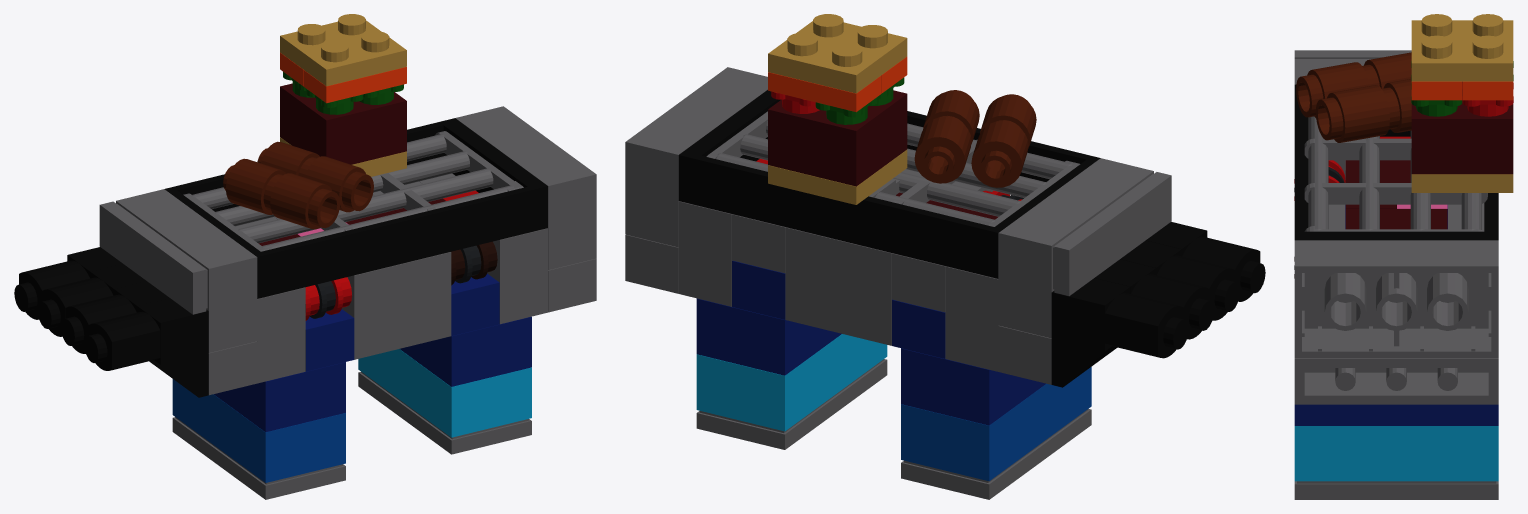
The model's file is Barbeque.FBX.
3 renders of one model, left to right at view 1: azimuth 30°, elevation 25°; view 2: azimuth 150°, elevation 25°; view 3: azimuth 270°, elevation 25°, orthographic. The views are drawn at different scales.
Parts seen in each view (by area): view 1: Barbeque; view 2: Barbeque; view 3: Barbeque.
Boxes of the visible parts, x1=… form: Barbeque: x1=14, y1=14, x2=596, y2=499; Barbeque: x1=625, y1=14, x2=1265, y2=499; Barbeque: x1=1294, y1=14, x2=1513, y2=499.
Bounding box in the file's own units: 3.85 × 2.78 × 1.35.
